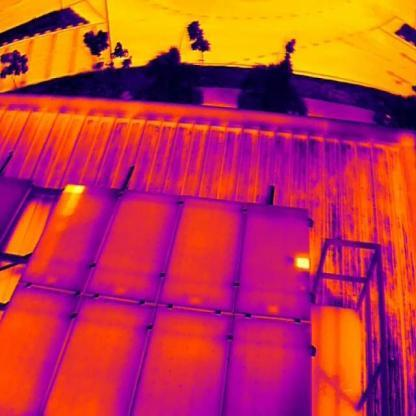anomaly: (57, 181, 88, 215), (291, 252, 312, 273)
